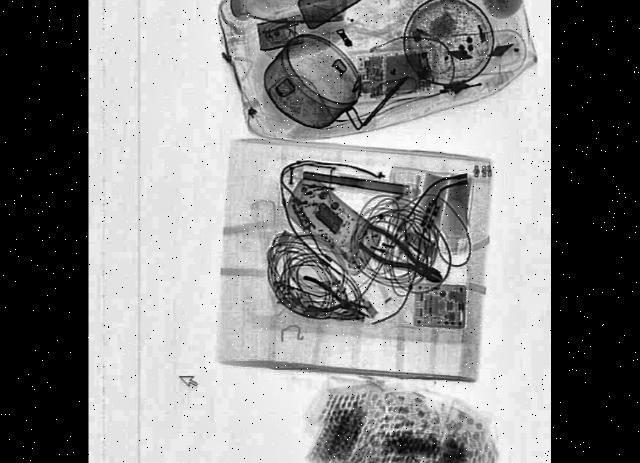Pliers: (358, 216, 447, 294), (300, 273, 371, 320)
